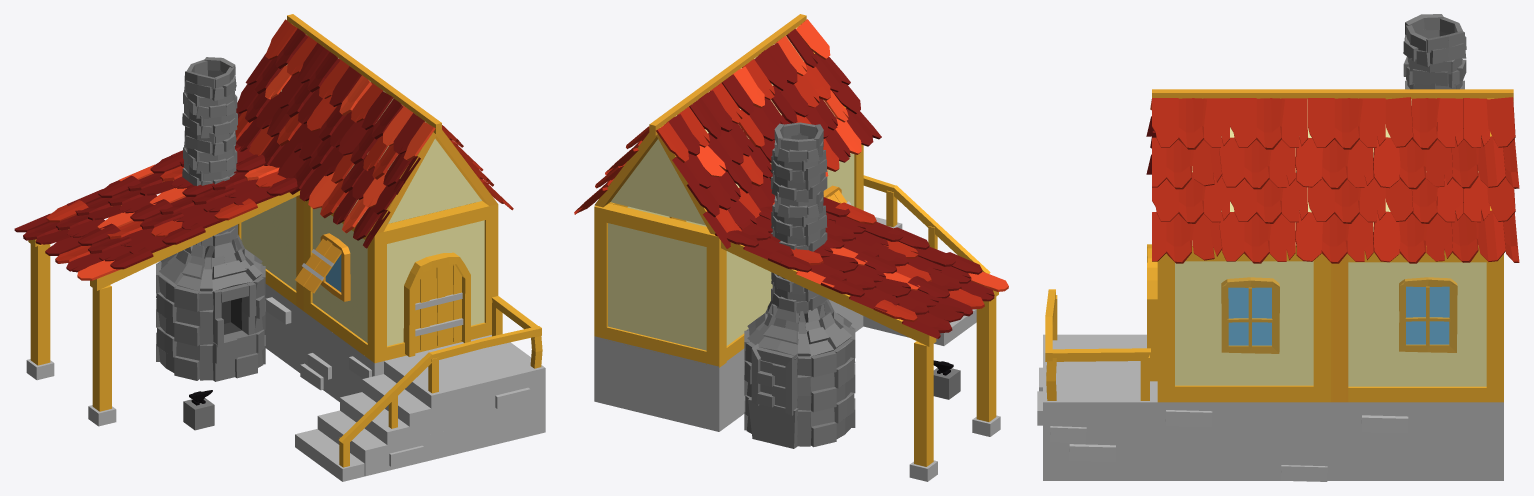
The model's file is Herreria.fbx.
The picture shows the model from 3 angles, left to right: view 1: azimuth 30°, elevation 25°; view 2: azimuth 150°, elevation 25°; view 3: azimuth 270°, elevation 25°; orthographic projection. The views are drawn at different scales.
Visible parts, largest first — view 1: PasaManos; view 2: PasaManos; view 3: PasaManos.
Boxes of the visible parts, box(x1,y1,x2,y2) form: PasaManos: box(14, 14, 545, 481); PasaManos: box(574, 14, 1008, 481); PasaManos: box(1037, 14, 1519, 481).
Size of the model in its own units: 8.69 by 6.79 by 8.35.
